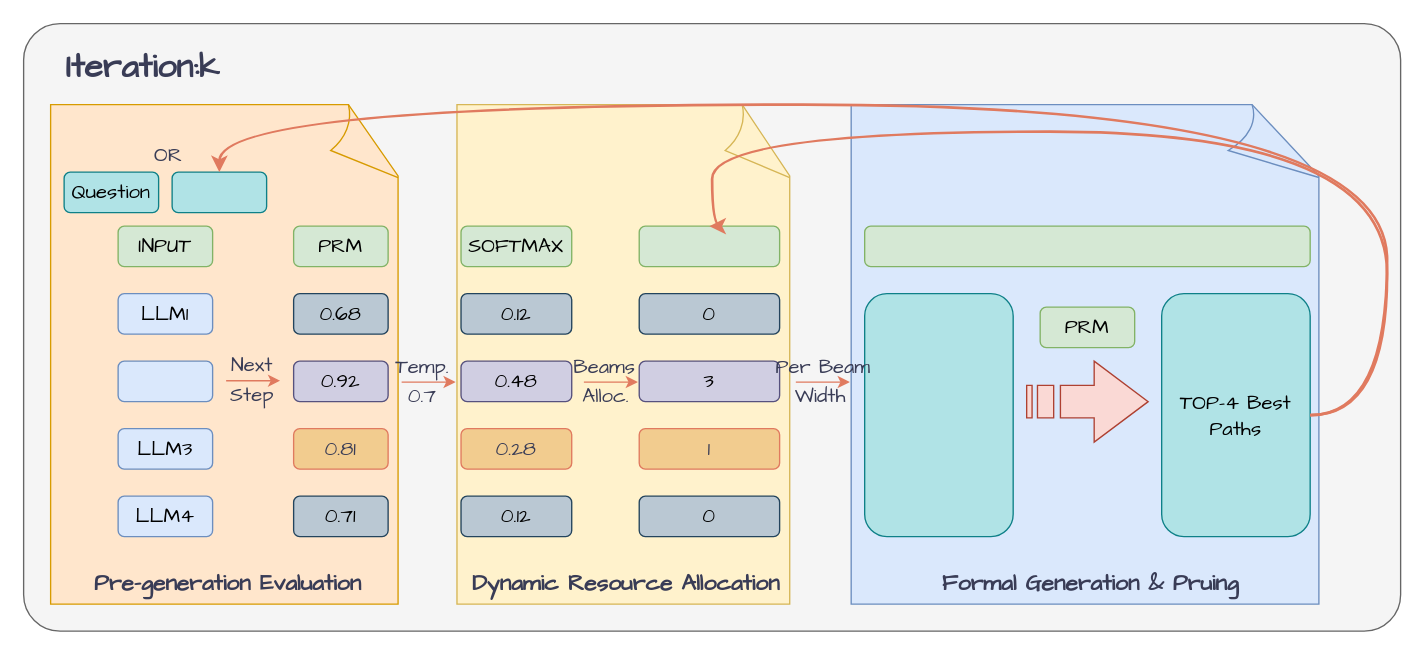
This 1424x655 diagram has some shape labels left out. Each missing label, with the box of its shape:
ALLOCATION: (638, 225, 780, 267)
Best Path: (171, 171, 267, 213)
Generating 16 New Candidate Paths: (863, 292, 1013, 537)
LLM2: (117, 360, 213, 402)
PATH UPDATE: (863, 225, 1310, 267)
Pruing: (1025, 360, 1148, 442)
